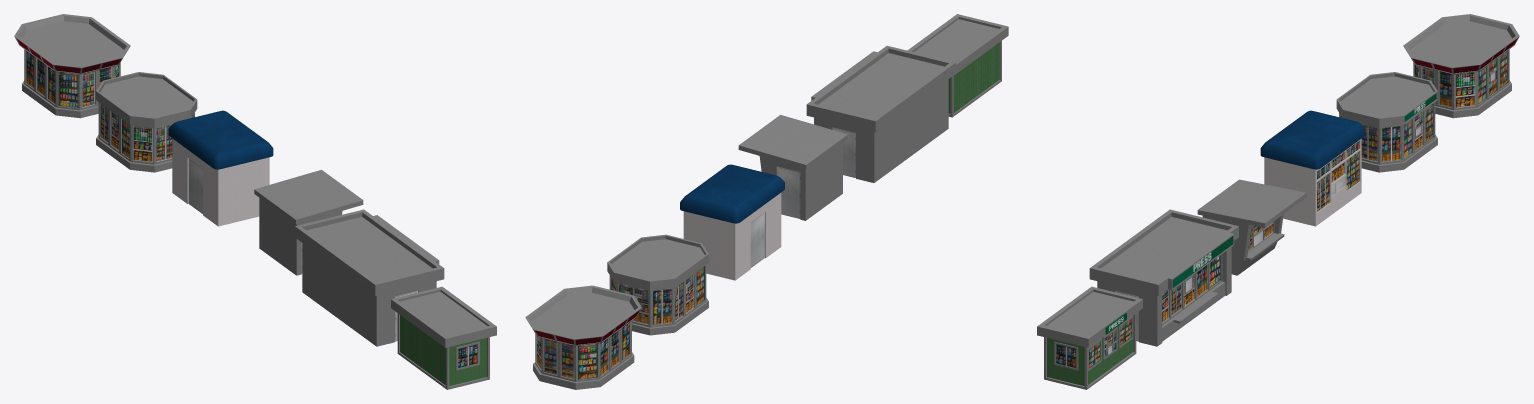
The model's file is stalls.fbx.
3 views of the same model, side by side, from view 1: azimuth 30°, elevation 25°; view 2: azimuth 150°, elevation 25°; view 3: azimuth 330°, elevation 25° (orthographic).
Visible parts, largest first — view 1: stall_2, stall_4, stall_6, stall_1, stall_5, stall_3; view 2: stall_2, stall_6, stall_4, stall_5, stall_3, stall_1; view 3: stall_2, stall_4, stall_6, stall_1, stall_5, stall_3.
Part boxes in pixels (x1,y1,x2,y2): stall_2: [295, 209, 444, 346]; stall_4: [168, 110, 273, 226]; stall_6: [14, 14, 130, 118]; stall_1: [391, 286, 496, 389]; stall_5: [96, 72, 197, 172]; stall_3: [254, 169, 363, 275]; stall_2: [806, 45, 955, 182]; stall_6: [525, 285, 641, 389]; stall_4: [680, 164, 784, 280]; stall_5: [607, 234, 708, 335]; stall_3: [738, 115, 847, 220]; stall_1: [907, 14, 1008, 117]; stall_2: [1089, 209, 1238, 346]; stall_4: [1260, 110, 1365, 226]; stall_6: [1403, 14, 1519, 118]; stall_1: [1037, 286, 1142, 389]; stall_5: [1336, 72, 1437, 172]; stall_3: [1197, 179, 1306, 275].
Bounding box in the file's own units: 402 × 320 × 3462.
